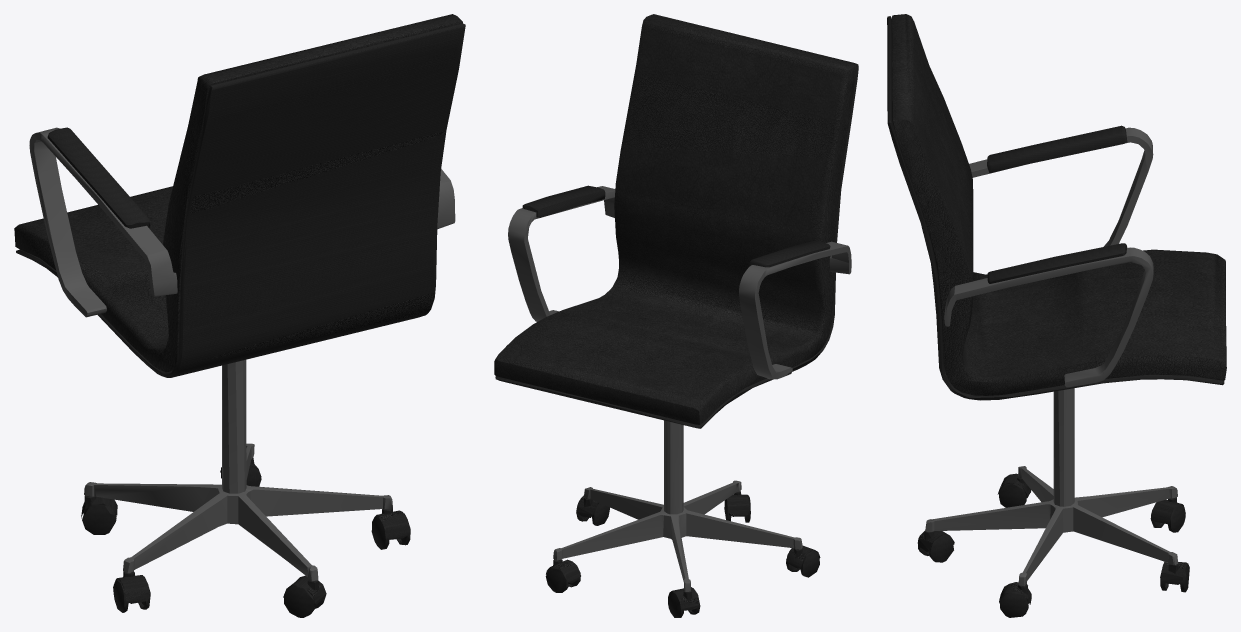
File: Chair.FBX
3 views of the same model, side by side, from view 1: azimuth 30°, elevation 25°; view 2: azimuth 150°, elevation 25°; view 3: azimuth 270°, elevation 25° (orthographic). The views are drawn at different scales.
Visible parts, largest first — view 1: Chair; view 2: Chair; view 3: Chair.
Boxes of the visible parts, left/top/right/bottom form: Chair: left=14, top=14, right=465, bottom=617; Chair: left=494, top=14, right=858, bottom=617; Chair: left=887, top=14, right=1226, bottom=617.
Size of the model in its own units: 583 by 652 by 1048.
